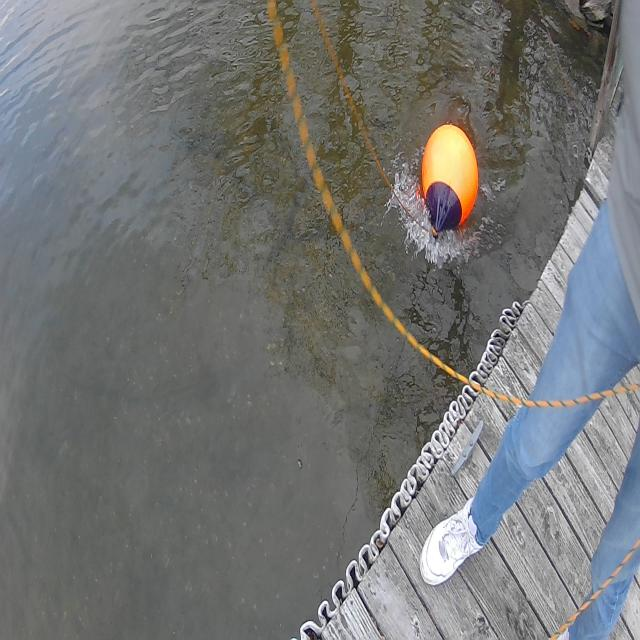Buoy: (413, 111, 481, 239)
